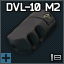DVL-10 M2 muzzle brake: (0, 0, 64, 64)
